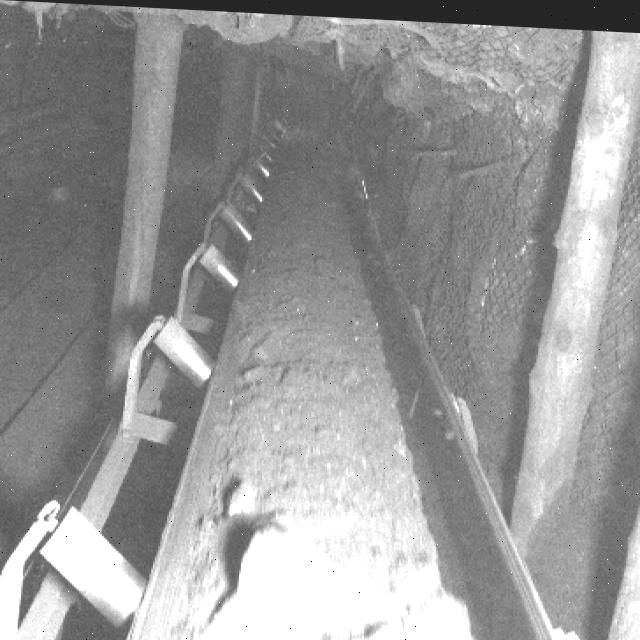large_sized_coal: (213, 502, 404, 639)
